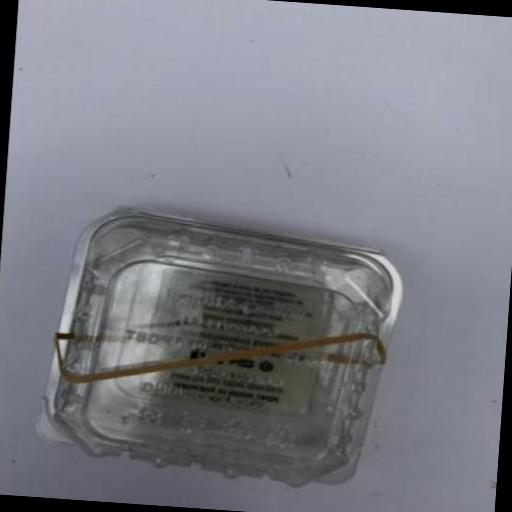plastic: (30, 200, 405, 492)
